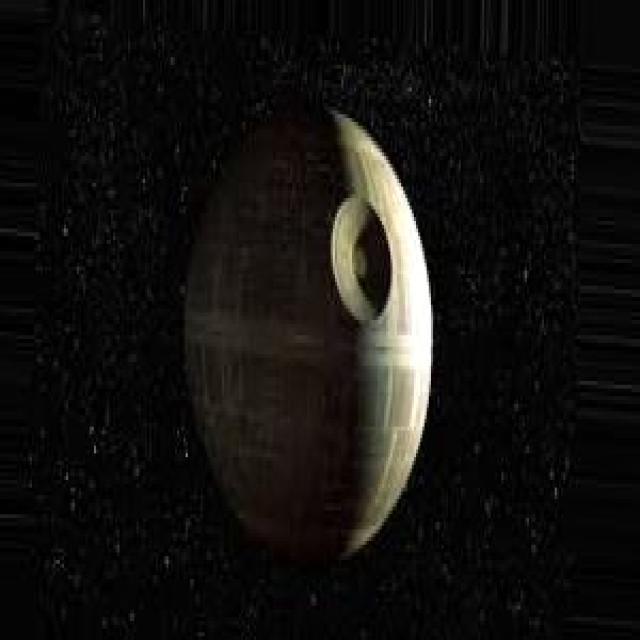deathstar: (186, 110, 433, 560)
